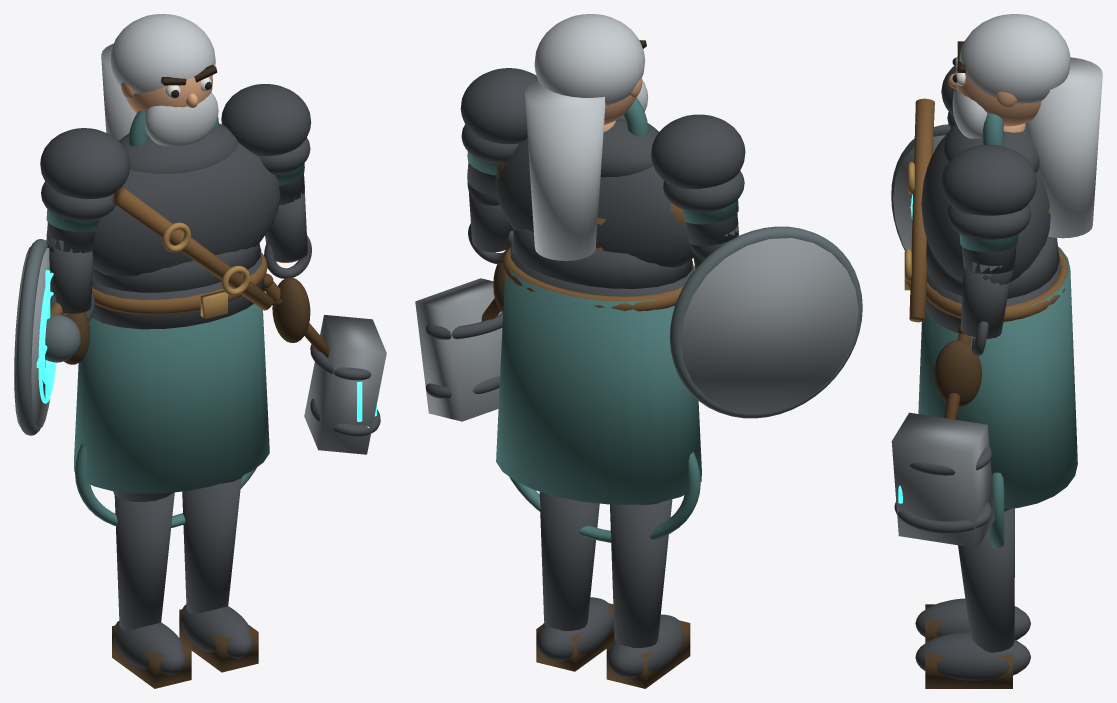
Rendered from 3D模型 char_paladin.glb.
3 views of the same model, side by side, from view 1: azimuth 30°, elevation 25°; view 2: azimuth 150°, elevation 25°; view 3: azimuth 270°, elevation 25° (orthographic). The views are drawn at different scales.
Visible parts, largest first — view 1: char_paladin_tabard, char_paladin_cuirass, char_paladin_hhead, char_paladin_greav_L, char_paladin_greav_R, char_paladin_hair, char_paladin_paud_L, char_paladin_paud_R, char_paladin_abdom2, char_paladin_gorget, char_paladin_srim, char_paladin_abdom1 (+26 smaller); view 2: char_paladin_tabard, char_paladin_shield, char_paladin_hairbk, char_paladin_cuirass, char_paladin_hhead, char_paladin_hair, char_paladin_greav_L, char_paladin_greav_R, char_paladin_paud_L, char_paladin_srim, char_paladin_abdom1, char_paladin_paud_R (+14 smaller); view 3: char_paladin_tabard, char_paladin_hhead, char_paladin_hairbk, char_paladin_hair, char_paladin_greav_R, char_paladin_paud_R, char_paladin_cuirass, char_paladin_sabat_R, char_paladin_baldric, char_paladin_vamb_R, char_paladin_hand_R, char_paladin_abdom1 (+19 smaller).
Boxes of the visible parts, x1,y1,x2,y2 form: char_paladin_tabard: (74, 304, 269, 493); char_paladin_cuirass: (92, 142, 280, 276); char_paladin_hhead: (304, 314, 386, 454); char_paladin_greav_L: (114, 492, 174, 630); char_paladin_greav_R: (182, 478, 241, 614); char_paladin_hair: (110, 14, 215, 93); char_paladin_paud_L: (40, 128, 129, 198); char_paladin_paud_R: (221, 84, 311, 156); char_paladin_abdom2: (91, 249, 264, 329); char_paladin_gorget: (119, 123, 238, 173); char_paladin_srim: (16, 239, 47, 435); char_paladin_abdom1: (92, 243, 260, 292); char_paladin_tabard: (496, 262, 701, 504); char_paladin_shield: (681, 238, 858, 413); char_paladin_hairbk: (524, 80, 605, 260); char_paladin_cuirass: (495, 138, 693, 267); char_paladin_hhead: (415, 278, 502, 421); char_paladin_hair: (534, 14, 645, 105); char_paladin_greav_L: (610, 499, 672, 647); char_paladin_greav_R: (539, 491, 599, 630); char_paladin_paud_L: (651, 114, 745, 188); char_paladin_srim: (669, 226, 862, 418); char_paladin_abdom1: (512, 229, 692, 288); char_paladin_paud_R: (460, 68, 538, 144); char_paladin_tabard: (918, 246, 1077, 508); char_paladin_hhead: (891, 412, 994, 548); char_paladin_hairbk: (1026, 57, 1102, 238); char_paladin_hair: (959, 14, 1070, 103); char_paladin_greav_R: (958, 508, 1014, 652); char_paladin_paud_R: (941, 144, 1036, 215); char_paladin_cuirass: (921, 132, 1050, 282); char_paladin_sabat_R: (915, 632, 1030, 680); char_paladin_baldric: (909, 98, 934, 322); char_paladin_vamb_R: (960, 262, 1009, 338); char_paladin_hand_R: (934, 340, 981, 406); char_paladin_abdom1: (926, 236, 1059, 298).
Size of the model in its own units: 1.16 by 1.78 by 0.5308.
